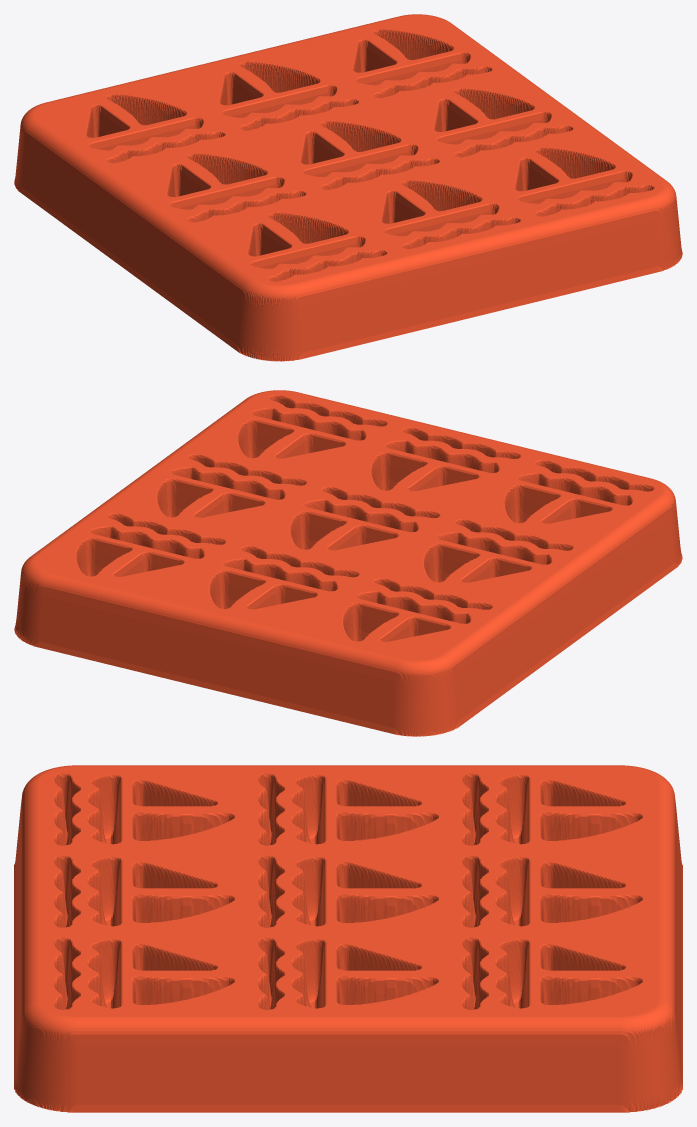
File: mold.glb
3 views of the same model, one above another, from view 1: azimuth 30°, elevation 25°; view 2: azimuth 150°, elevation 25°; view 3: azimuth 270°, elevation 25° (orthographic). The views are drawn at different scales.
Visible parts, largest first — view 1: geometry_0; view 2: geometry_0; view 3: geometry_0.
Part boxes in pixels (bbox=[...]): geometry_0: bbox=[14, 14, 682, 361]; geometry_0: bbox=[14, 390, 682, 736]; geometry_0: bbox=[14, 765, 682, 1112].
Size of the model in its own units: 0.0922 by 0.0136 by 0.0964.
